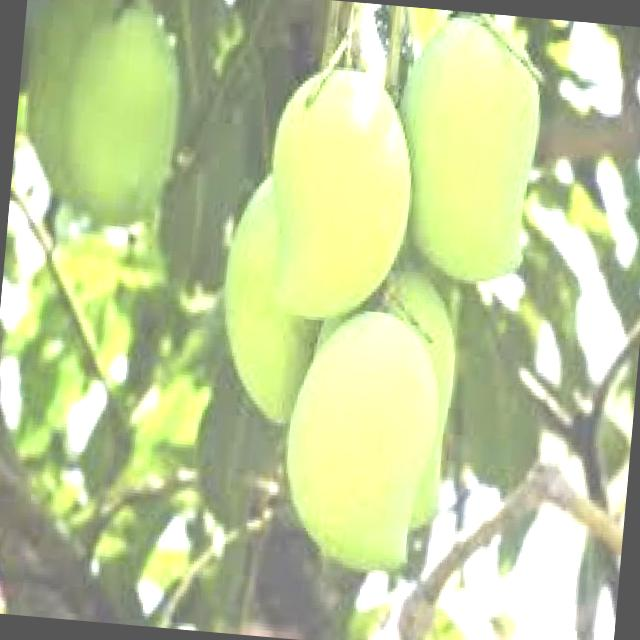Mango: (272, 302, 447, 578), (384, 7, 552, 292), (258, 64, 420, 320), (206, 168, 338, 428), (57, 0, 196, 220)
